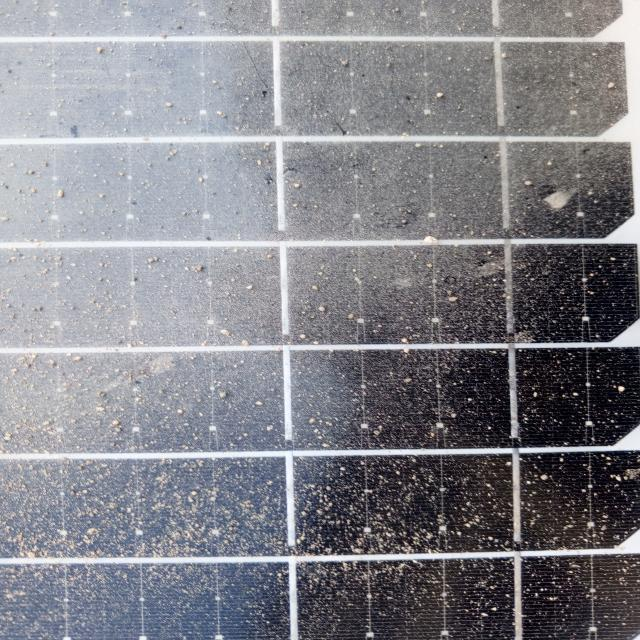Surface Contaminant: (56, 35, 639, 639)
